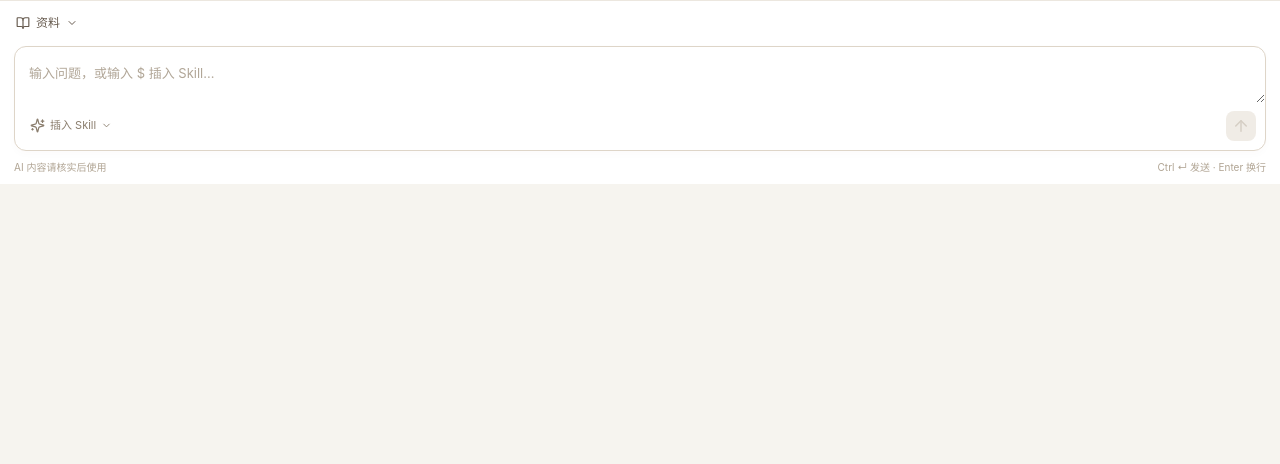
Test: filters skill options by the search term
Click the button with test id "skill-picker-toggle": (71, 126) [24, 110, 118, 141]
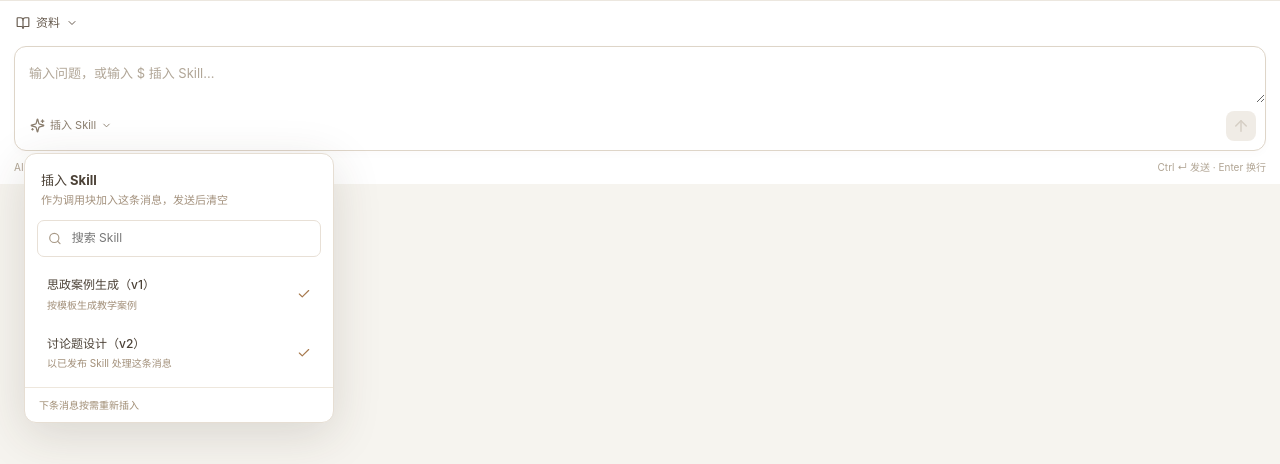
In the field named "搜索 Skill": (190, 238) [70, 229, 310, 248], type "讨论"
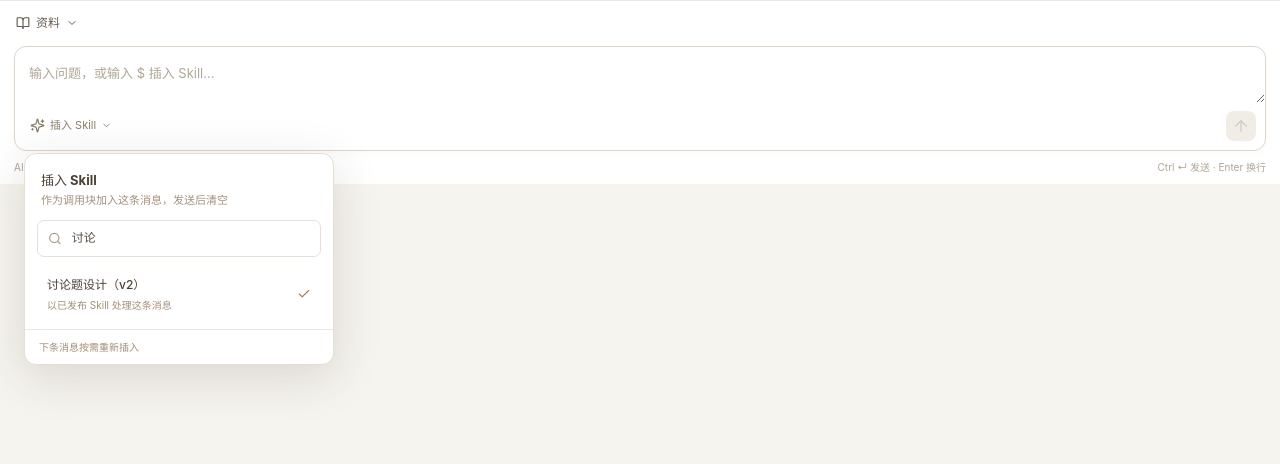
Check: the tooltip with class "skill-popover" shows "讨论题设计", box [39, 265, 319, 324]
Check: the button with class "skill-popover" no longer shows "思政案例生成"
